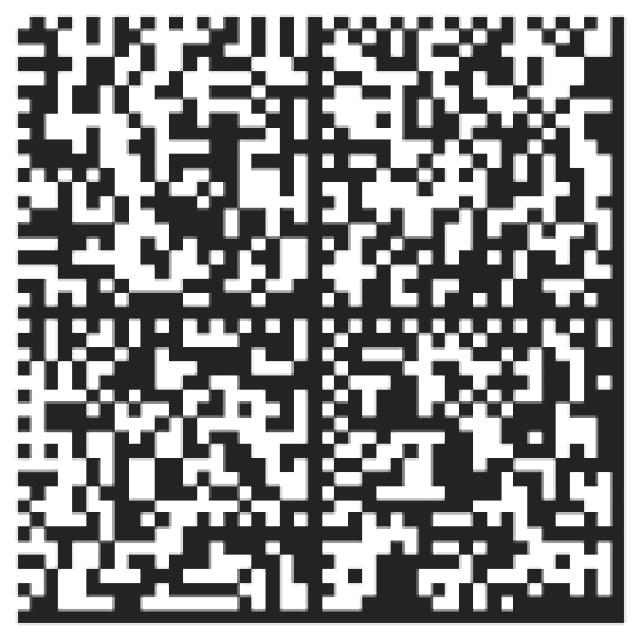DataMatrix: (8, 9, 634, 637)
